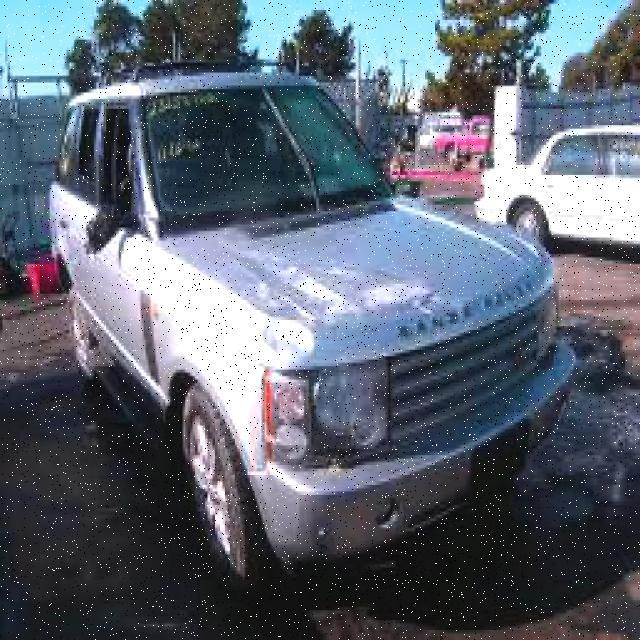car damage: (221, 244, 456, 365)
